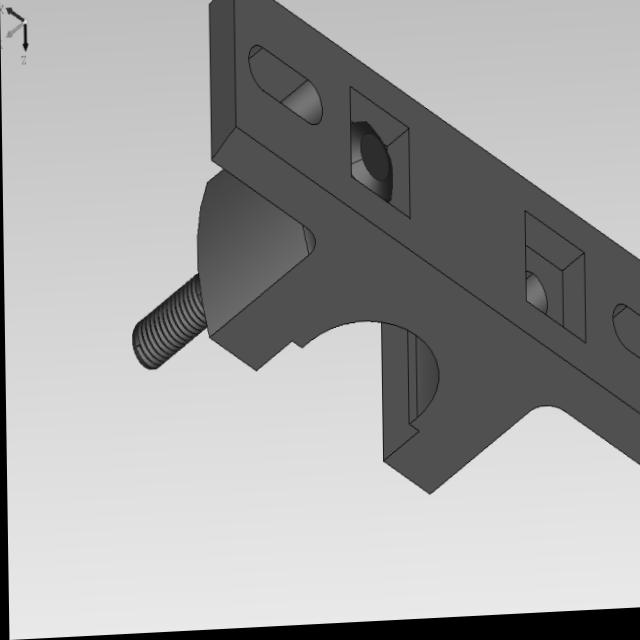screw: (116, 111, 402, 396)
